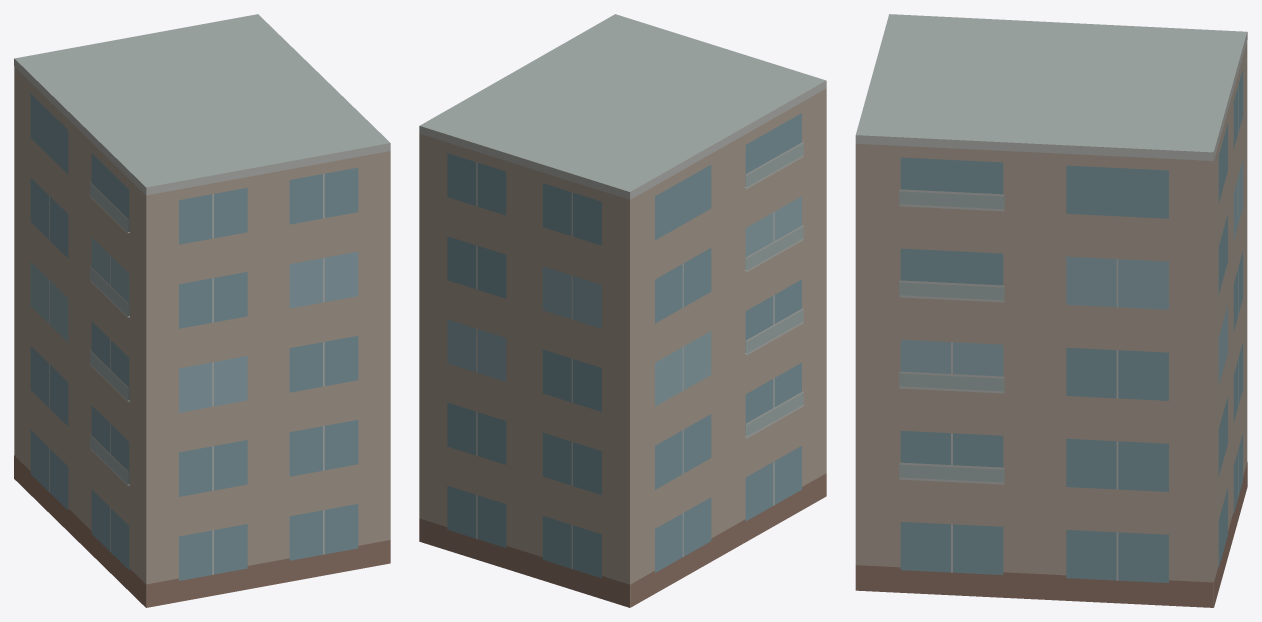
Rendered from survey-upis-33014860.glb.
3 renders of one model, left to right at view 1: azimuth 30°, elevation 25°; view 2: azimuth 150°, elevation 25°; view 3: azimuth 270°, elevation 25°, orthographic. The views are drawn at different scales.
Visible parts, largest first — view 1: survey-upis-33014860.tmp; view 2: survey-upis-33014860.tmp; view 3: survey-upis-33014860.tmp.
Boxes of the visible parts, x1,y1,x2,y2 form: survey-upis-33014860.tmp: (14,14,390,607); survey-upis-33014860.tmp: (419,14,826,607); survey-upis-33014860.tmp: (855,14,1247,607).
Bounding box in the file's own units: 8.48 × 13 × 10.14.
